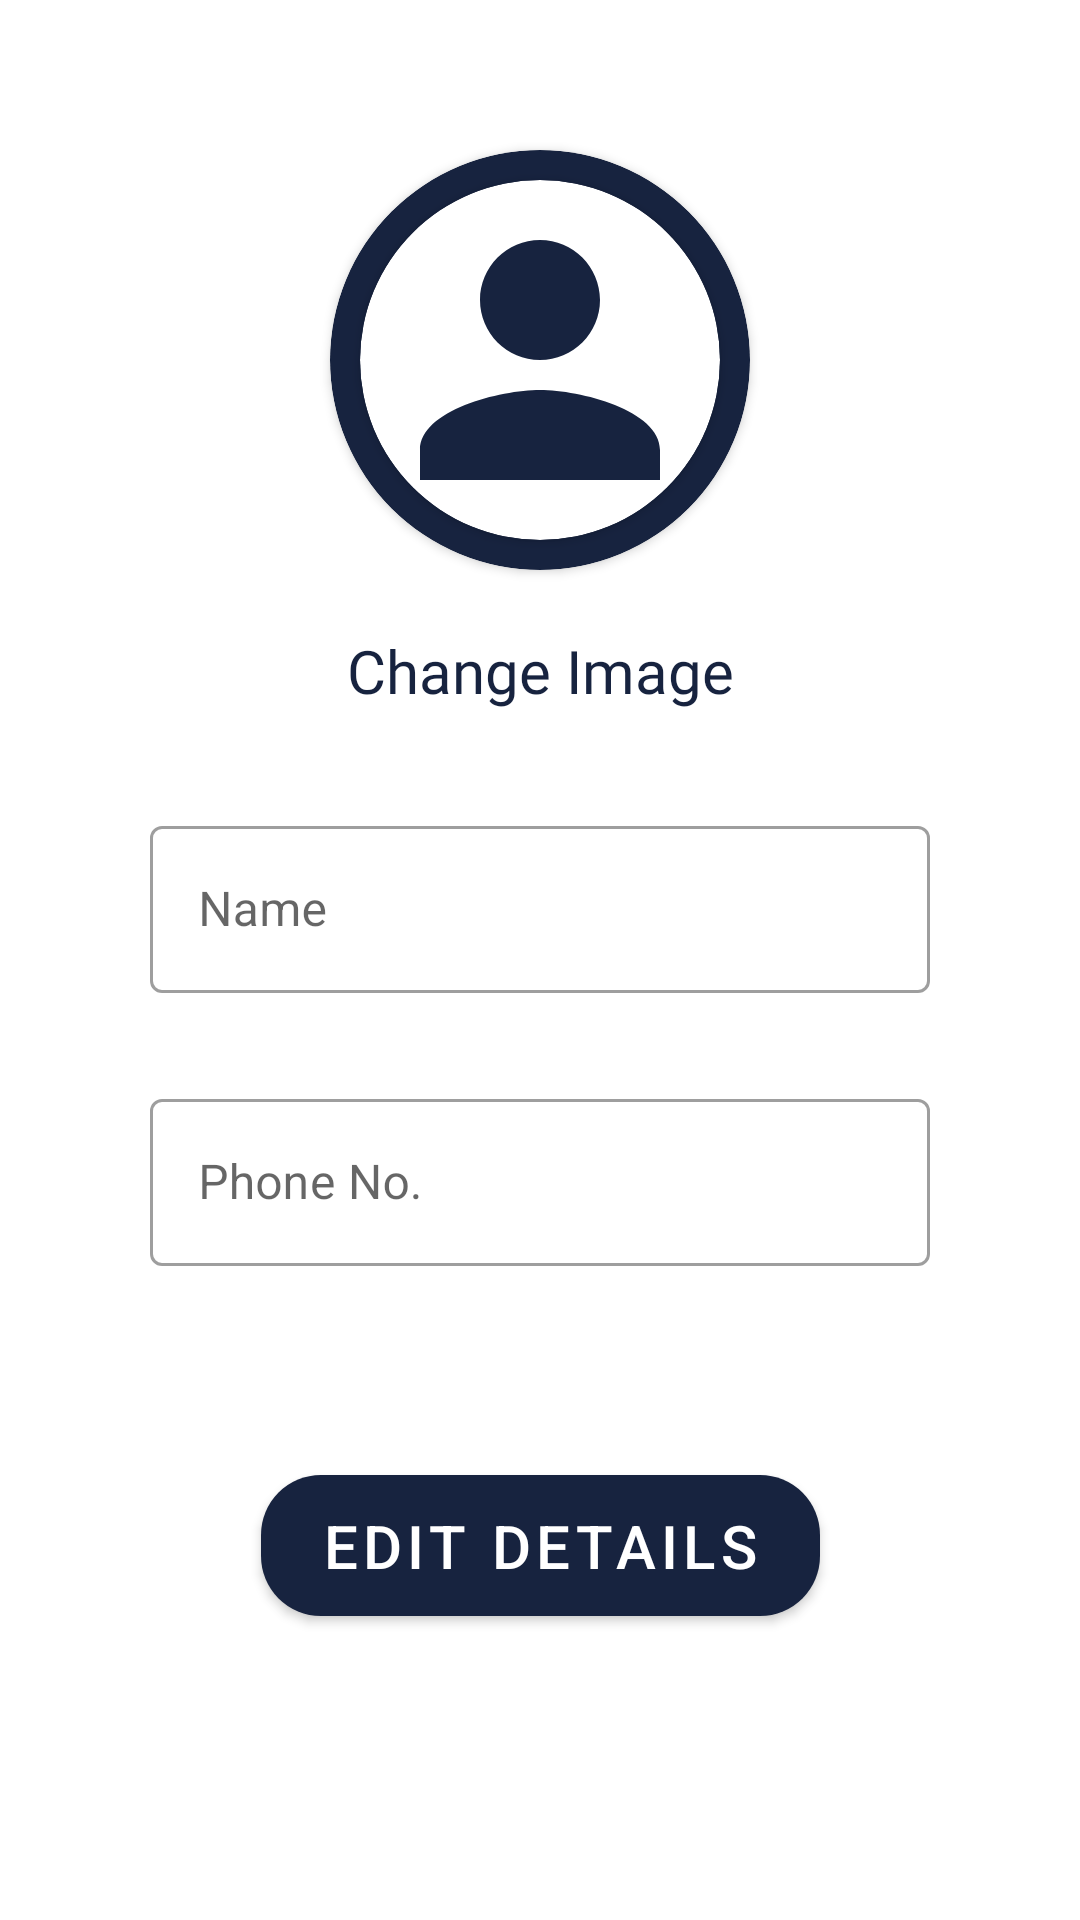

Point at icon controls on the screen. Image size 1080px×1920px, points as (x=x, y=y).
profile: (x=540, y=360)
